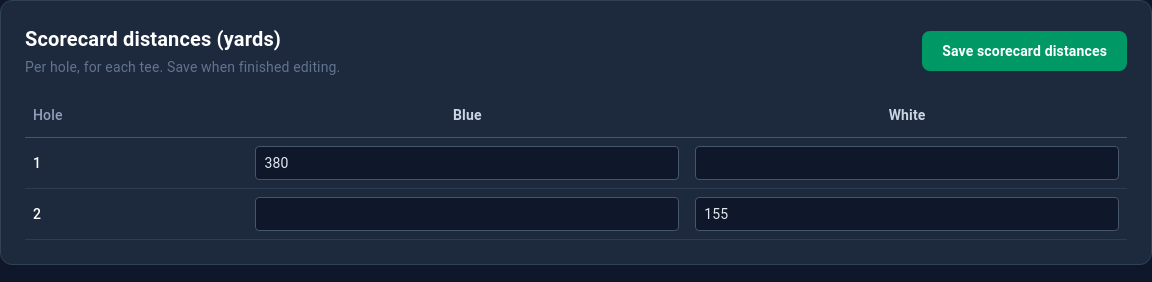
Test: CourseYardageMatrix Component › Submission › shows loading state during save
Click the button "Save scorecard distances" at (1025, 51), box [922,31,1127,71]
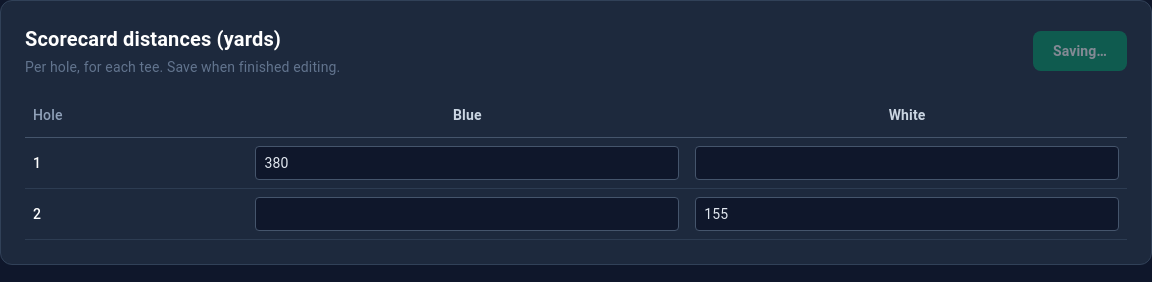
Expected: the button "Saving…" is disabled, [1033,31,1127,71]
